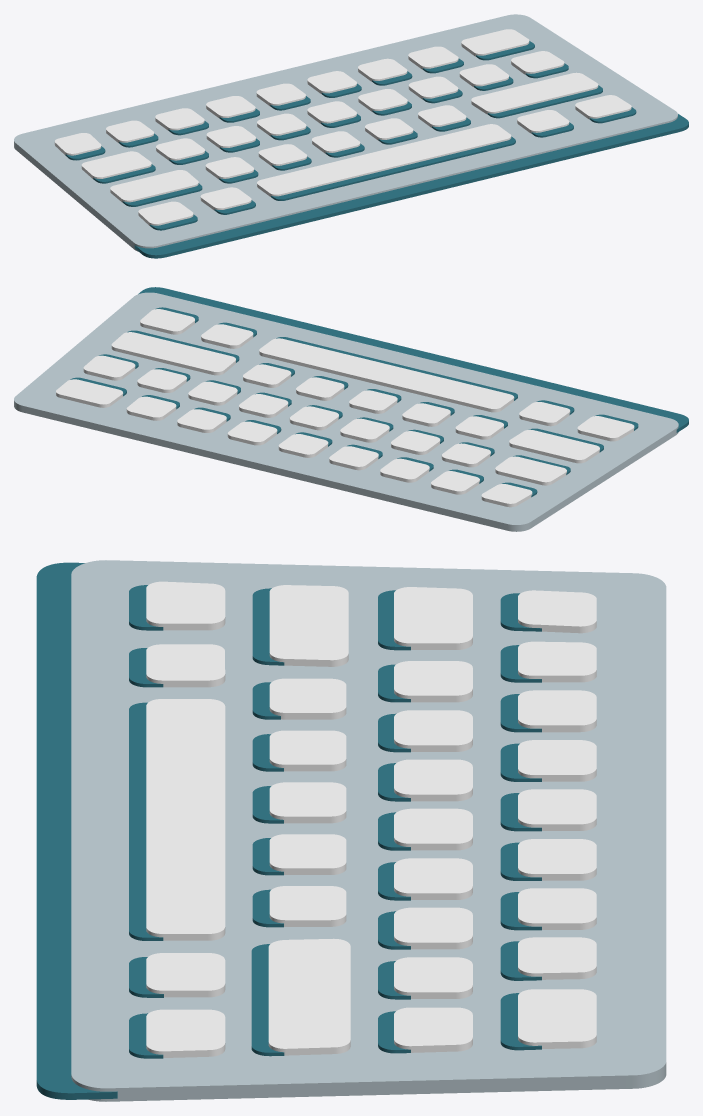
File: emoji_u2328.glb
3 renders of one model, top to bottom at view 1: azimuth 30°, elevation 25°; view 2: azimuth 150°, elevation 25°; view 3: azimuth 270°, elevation 25°, orthographic. The views are drawn at different scales.
Visible parts, largest first — view 1: emoji_u2328; view 2: emoji_u2328; view 3: emoji_u2328.
Boxes of the visible parts, bbox=[...] form: emoji_u2328: bbox=[14, 14, 688, 258]; emoji_u2328: bbox=[14, 287, 688, 531]; emoji_u2328: bbox=[36, 560, 666, 1101].
Bounding box in the file's own units: 0.0339 × 0.0008 × 0.017.
